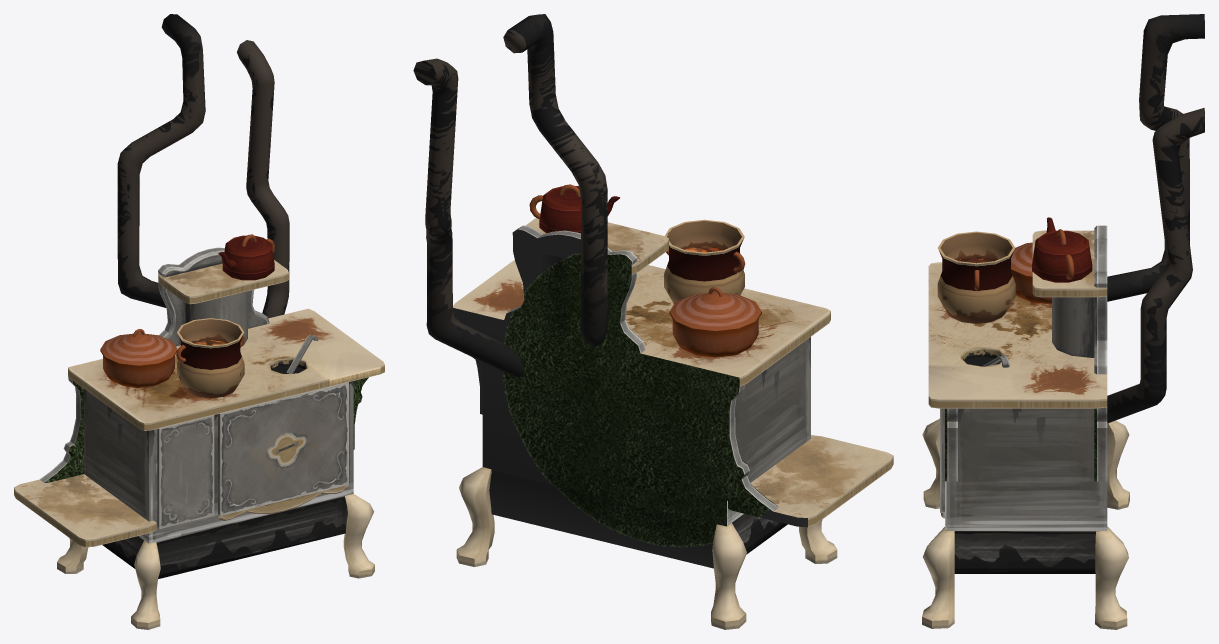
File: kitchen_test.FBX
3 views of the same model, side by side, from view 1: azimuth 30°, elevation 25°; view 2: azimuth 150°, elevation 25°; view 3: azimuth 270°, elevation 25° (orthographic). The views are drawn at different scales.
Parts seen in each view (by area): view 1: Kitchen; view 2: Kitchen; view 3: Kitchen.
Boxes of the visible parts, x1,y1,x2,y2 form: Kitchen: [14, 14, 384, 629]; Kitchen: [413, 14, 893, 629]; Kitchen: [922, 14, 1204, 629].
Bounding box in the file's own units: 123 × 192 × 86.99.
